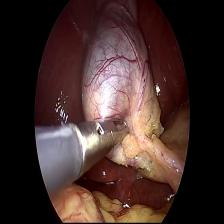Grasper: (70, 114, 132, 165)
